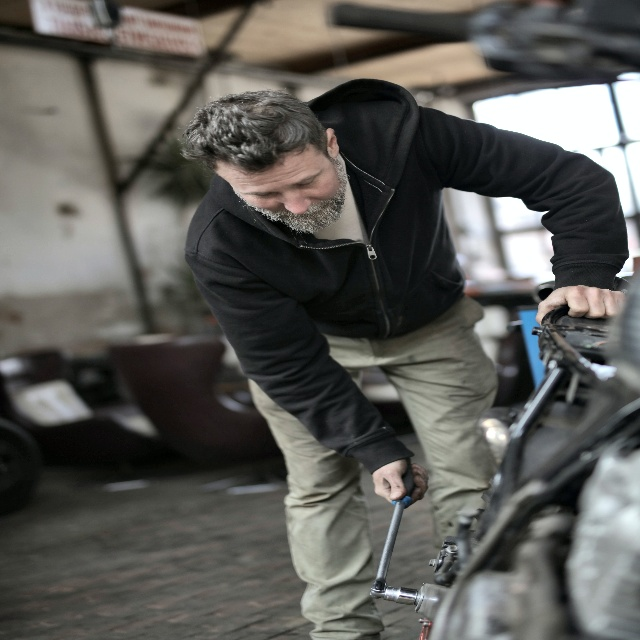Sin_guantes: (535, 285, 626, 326), (372, 457, 429, 506)
